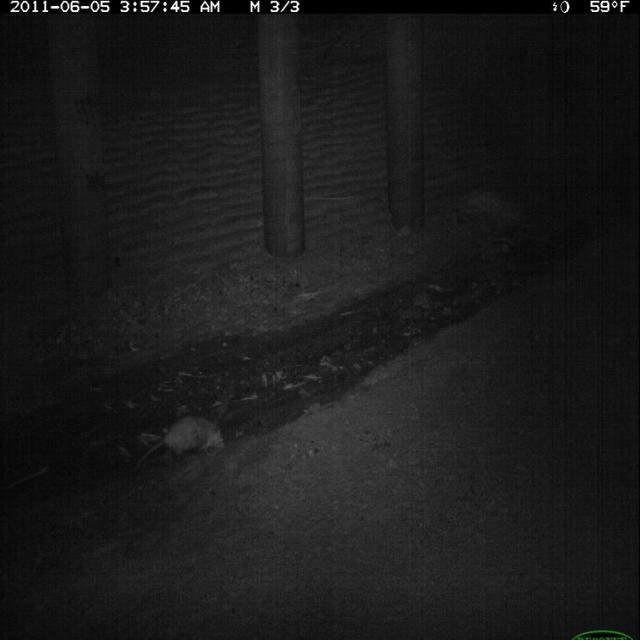opossum: (133, 409, 229, 473)
